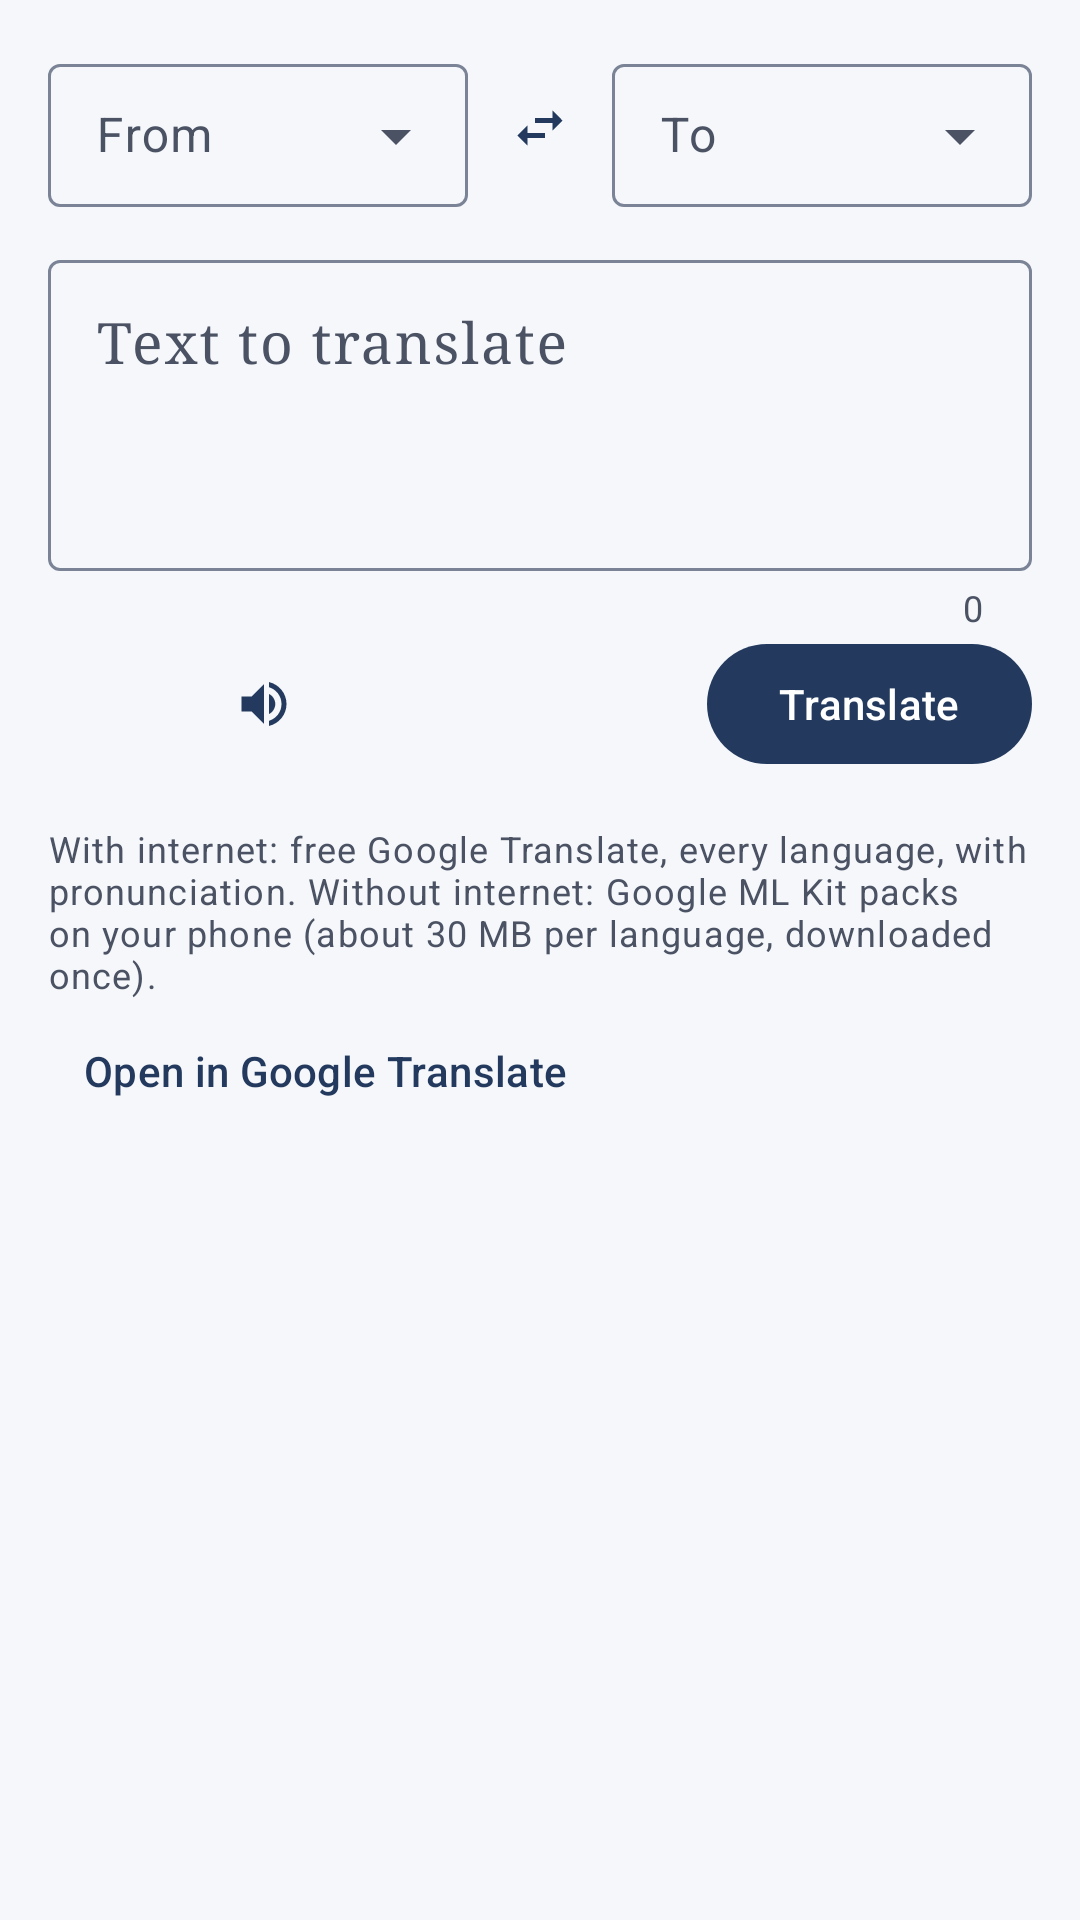

Where icons sit on this 1080px×1920px app screen, as detection(x1, y1, x2, y2):
Listen: detection(241, 682, 287, 726)
Swap languages: detection(517, 110, 563, 146)
